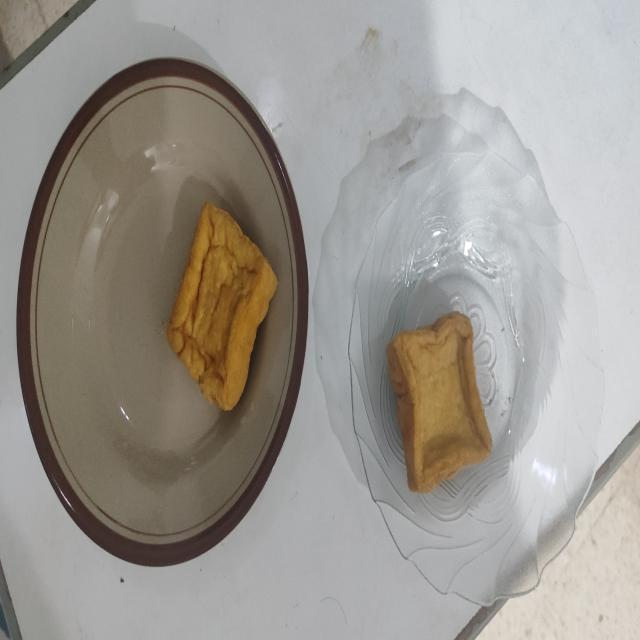tahu_goreng: (167, 203, 277, 410), (386, 312, 492, 492)
